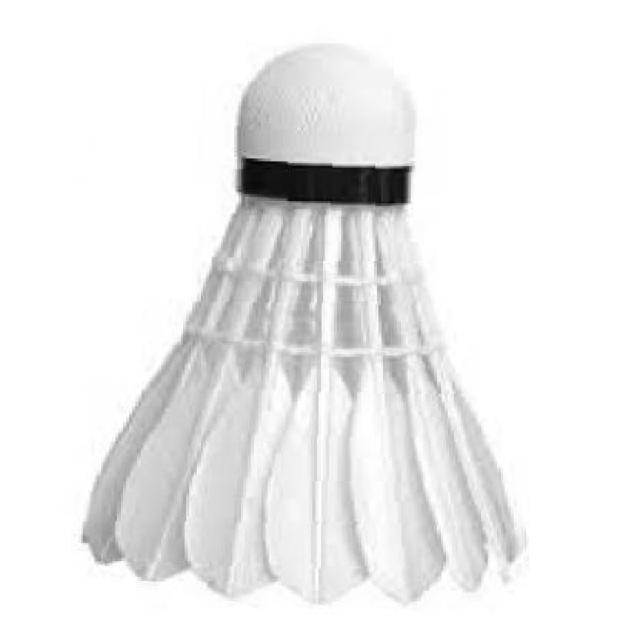Shuttlecock: (75, 38, 537, 611)
